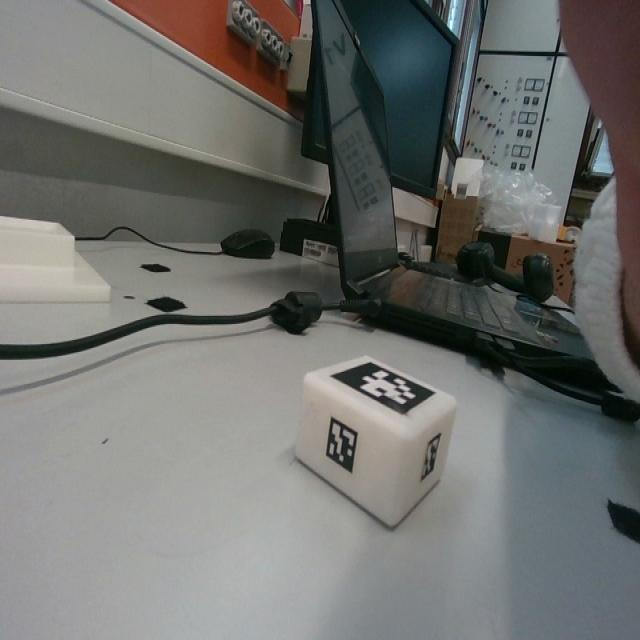Cube: (297, 353, 456, 531)
